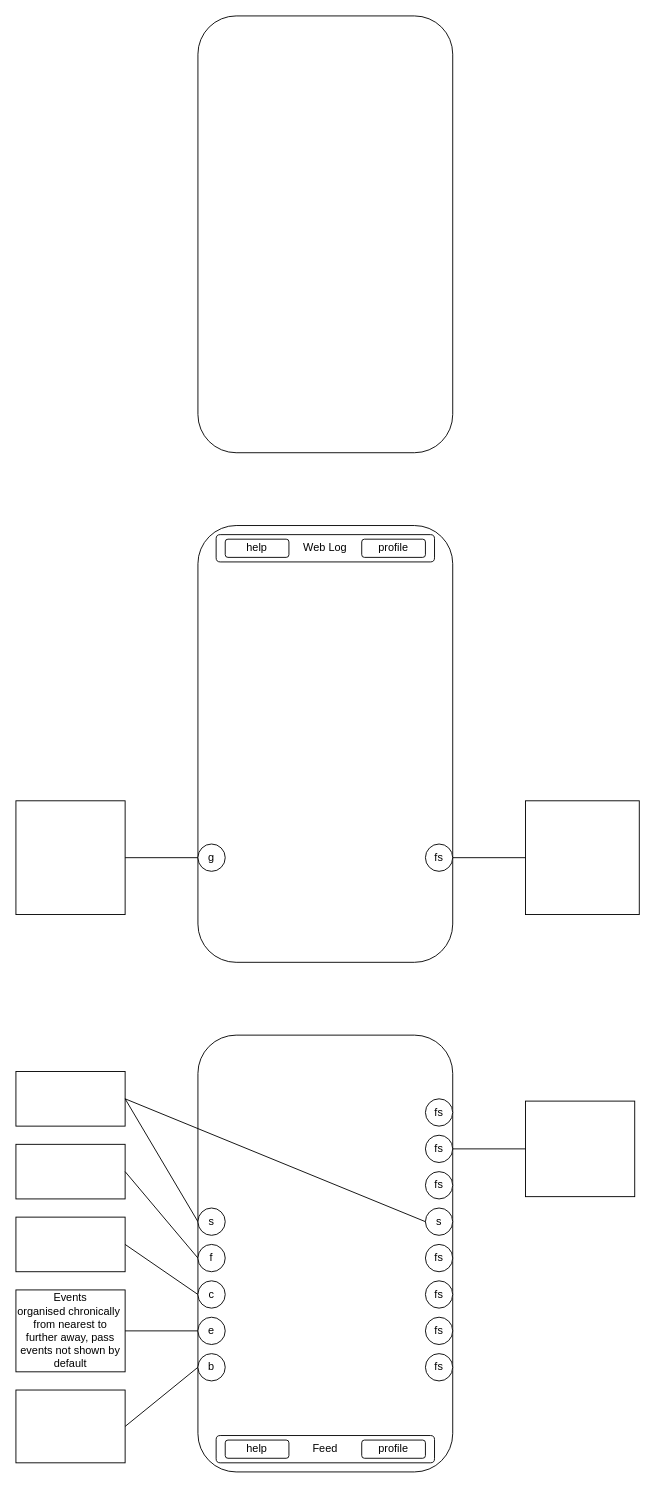
This 655x1488 diagram has some shape labels left out. Each missing label, with the centre of its shape:
Communities organised by interest: (x=70, y=1244)
Feed organised chronically and unseen, seen posts can be seen by scrolling back: (x=580, y=1148)
Feeds Opens a carousel of all the feeds subscribed to or has made.: (x=582, y=857)
Forum organised by topic and popularity: (x=70, y=1171)
Global Opens global options of Forums, communities, events and web log: (x=70, y=857)
Switch the UI to the other side: (x=70, y=1098)
Web Log Your blog organised chronically of your posts: (x=70, y=1426)
